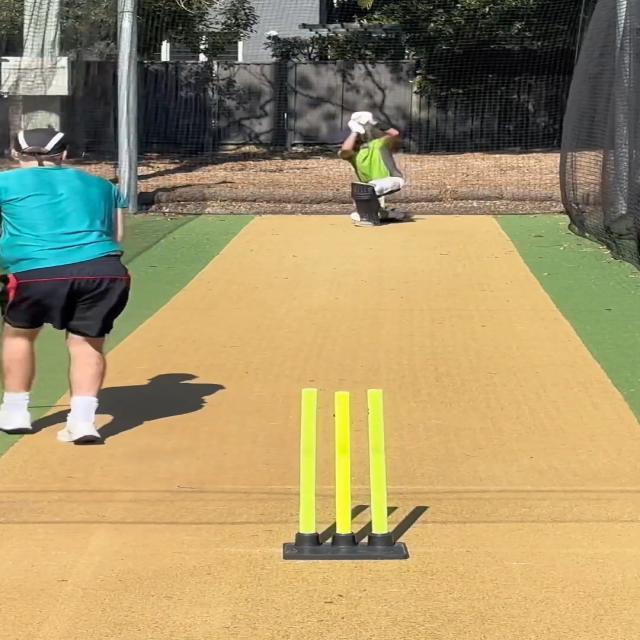stump: (277, 385, 414, 562)
